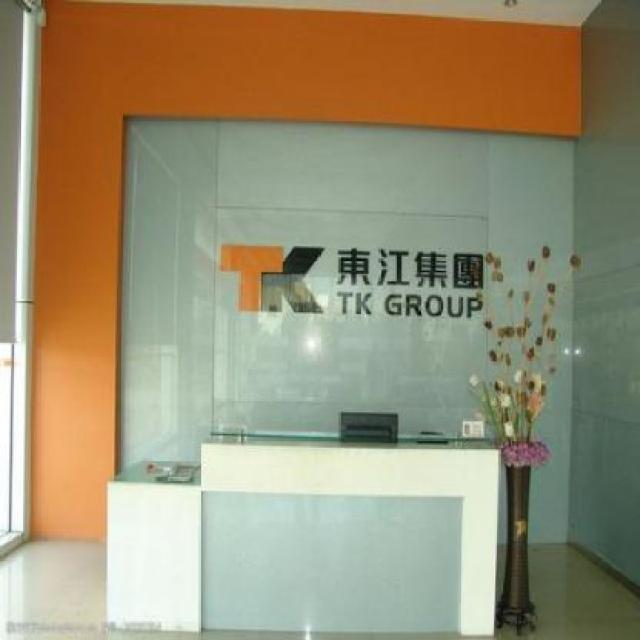frontdesk: (92, 409, 516, 640)
